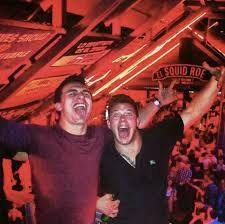Drunk: (108, 101, 138, 145), (62, 82, 92, 121)
